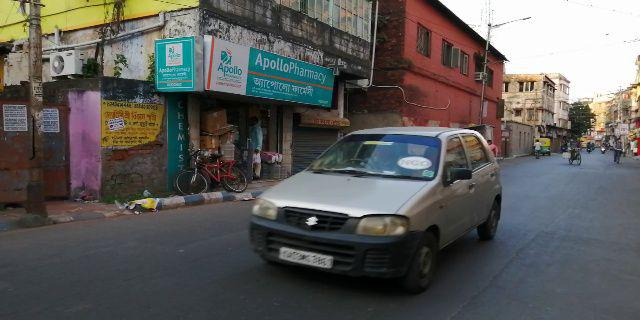Car: (248, 122, 504, 295)
Cycle: (172, 143, 247, 194)
